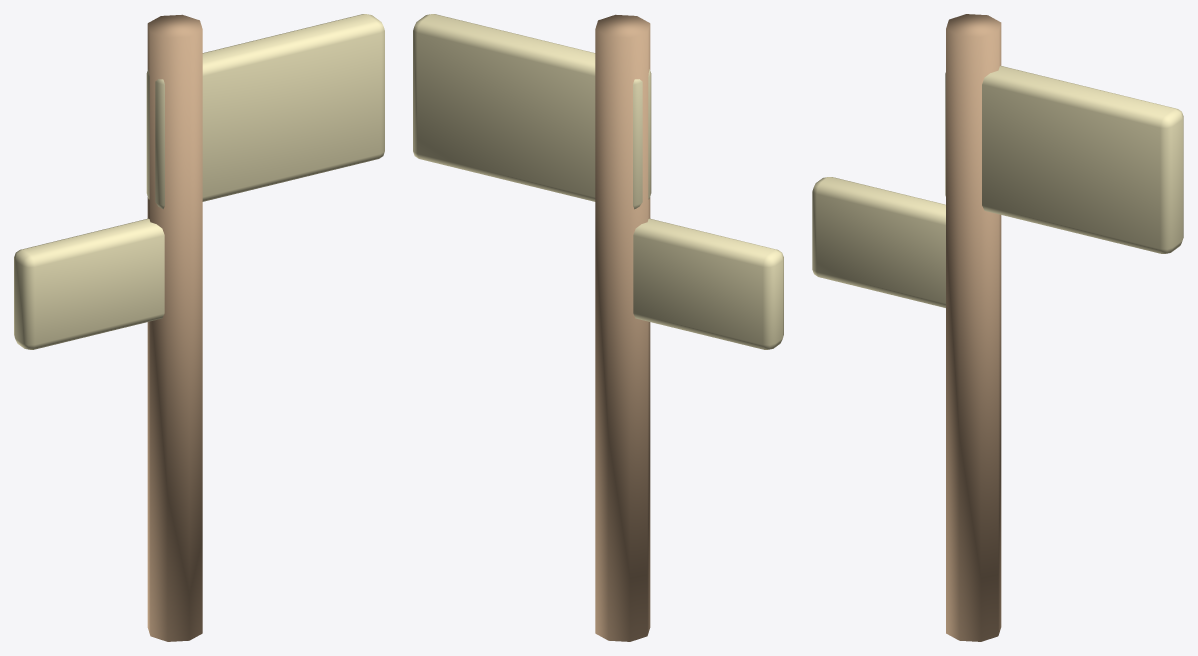
File: cozy_signpost_A.glb
3 views of the same model, side by side, from view 1: azimuth 30°, elevation 25°; view 2: azimuth 150°, elevation 25°; view 3: azimuth 330°, elevation 25° (orthographic).
Visible parts, largest first — view 1: Post, Board, Board2; view 2: Post, Board, Board2; view 3: Post, Board, Board2.
Boxes of the visible parts, <box> form: Post: <box>147,14,202,641</box>; Board: <box>146,14,384,209</box>; Board2: <box>14,218,164,349</box>; Post: <box>595,14,650,641</box>; Board: <box>413,14,651,209</box>; Board2: <box>633,218,783,349</box>; Post: <box>946,14,1001,641</box>; Board: <box>945,66,1183,253</box>; Board2: <box>812,177,945,307</box>.
Bounding box in the file's own units: 0.875 × 1.4 × 0.12.
